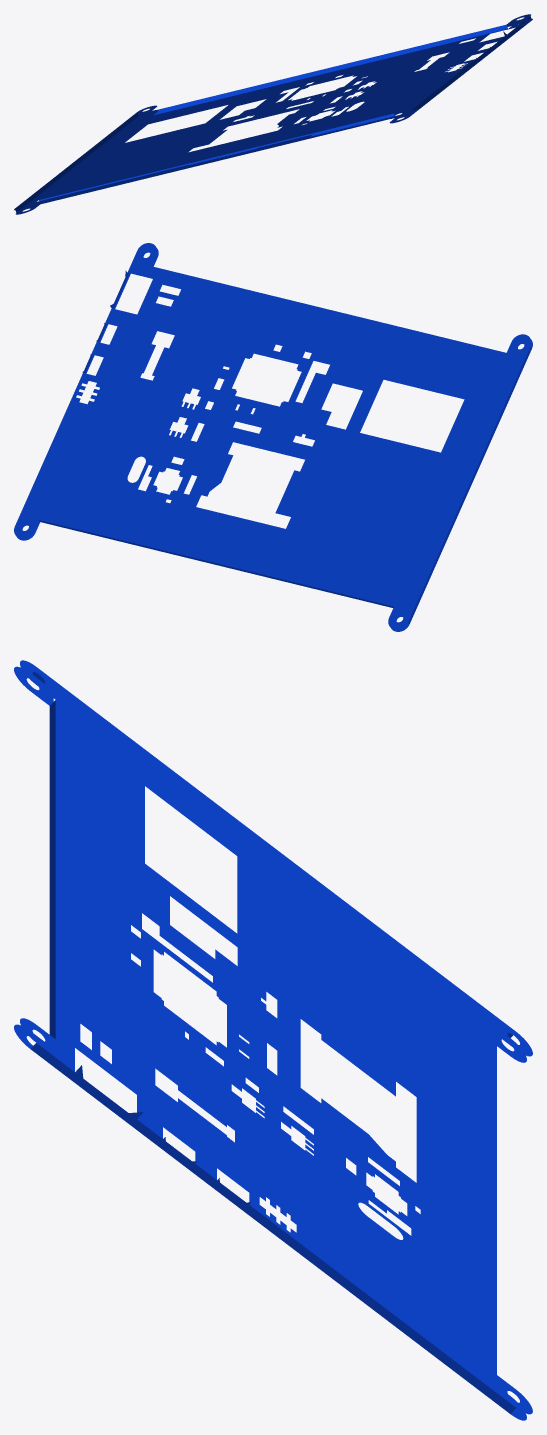
File: zatana_terra_base_vis_100.dae
3 renders of one model, top to bottom at view 1: azimuth 30°, elevation 25°; view 2: azimuth 150°, elevation 25°; view 3: azimuth 270°, elevation 25°, orthographic. The views are drawn at different scales.
Parts seen in each view (by area): view 1: Node_00000231837435E0; view 2: Node_00000231837435E0; view 3: Node_00000231837435E0.
Boxes of the visible parts, x1,y1,x2,y2 form: Node_00000231837435E0: [14, 14, 532, 214]; Node_00000231837435E0: [14, 243, 532, 631]; Node_00000231837435E0: [14, 660, 532, 1420].
Size of the model in its own units: 0.1651 by 0.0812 by 0.0963.
